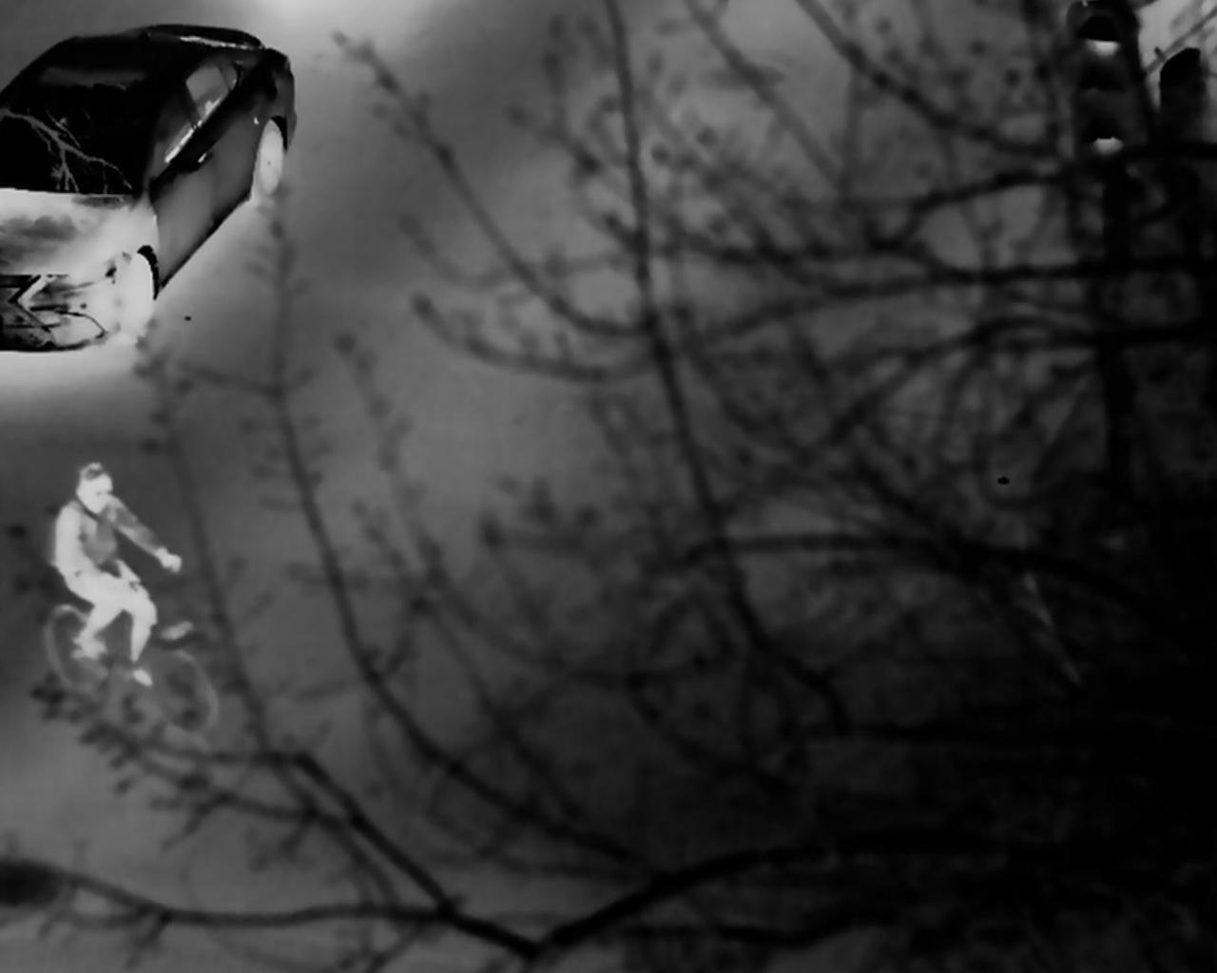person: (50, 461, 189, 685)
